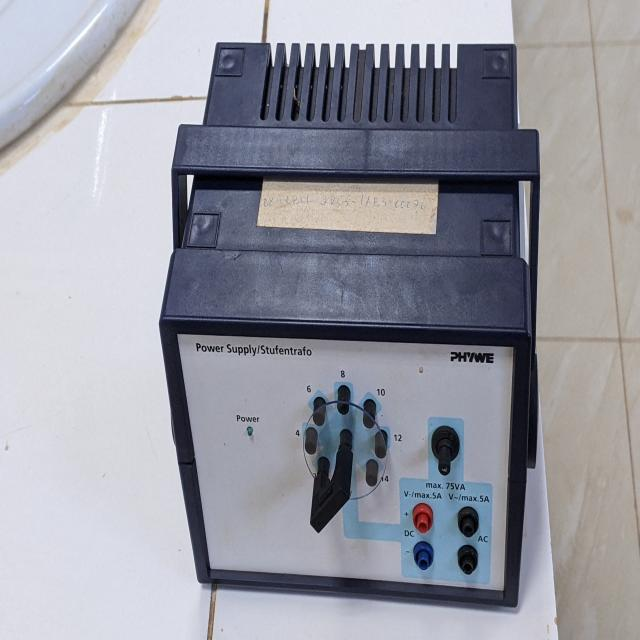Power Supply Stufentrafo_75VA: (153, 21, 553, 619)
